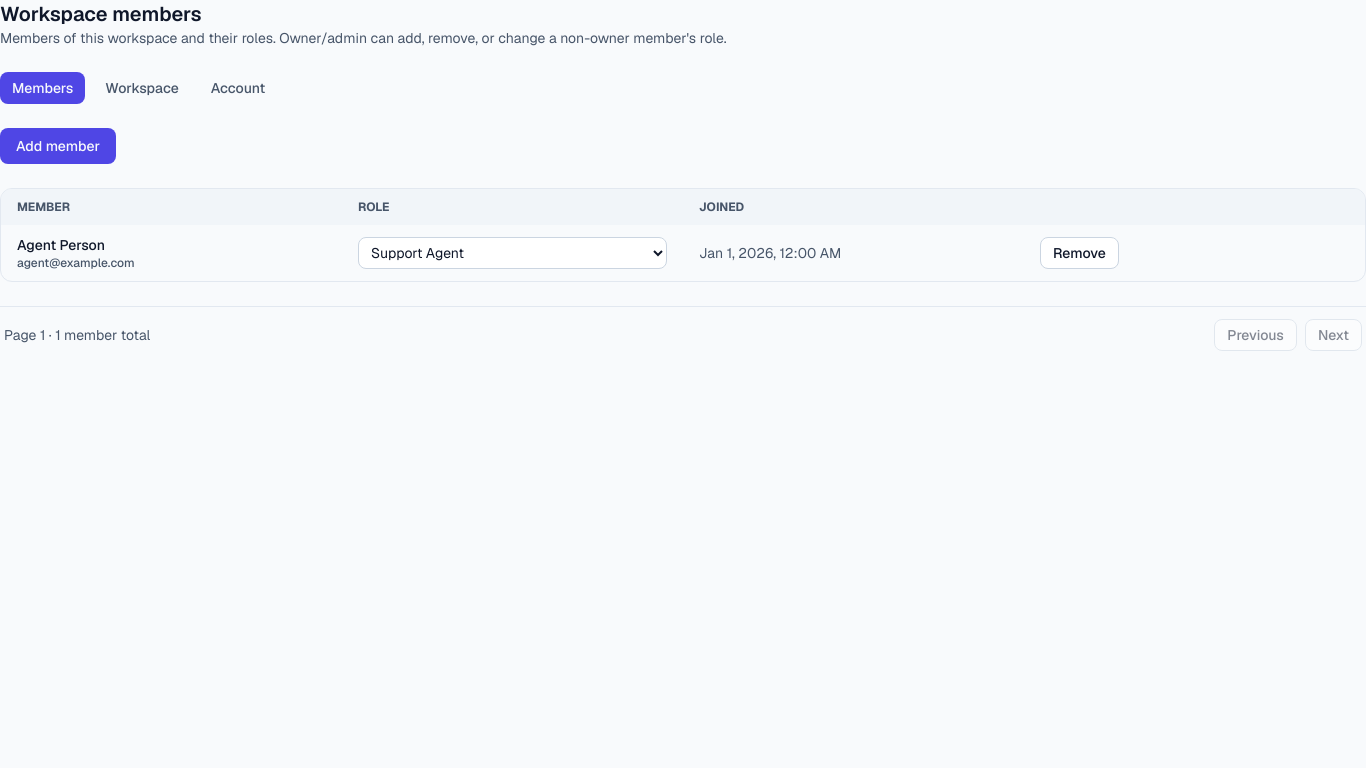
Test: MembersListPage › an admin removes a lower-role member with confirmation, and the server-authoritative removal is reflected (member disappears from the list)
Check: the text "Agent Person" is shown, box [17,236,105,254]
Step 1. Click the button with aria-label "remove agent person" → point(1079, 253), box [1040,237,1119,269]
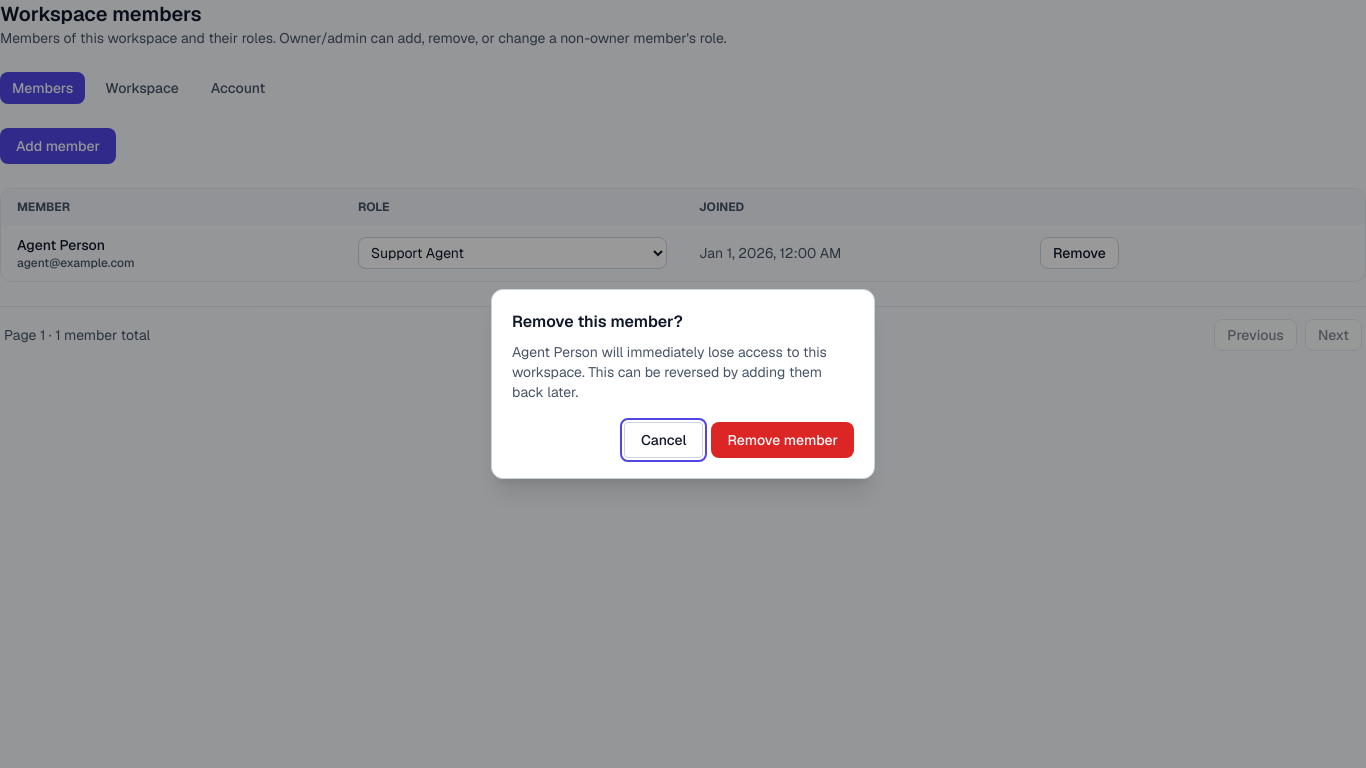
Check: the heading "Remove this member?" is shown, box [512,311,683,332]
Step 2. Click the button "Remove member" → point(783, 440), box [712,422,854,458]
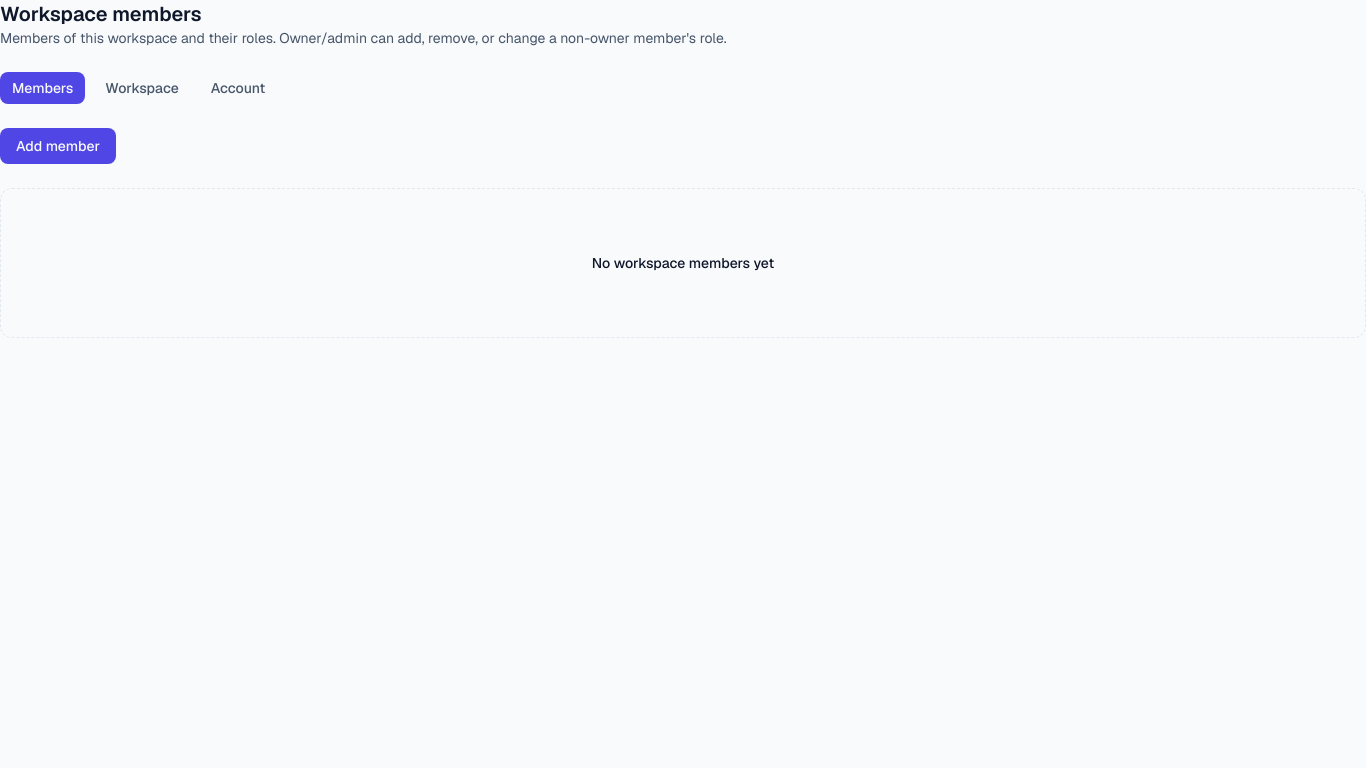
Check: the text "Agent Person" is gone
Check: the text "No workspace members yet" is shown, box [592,254,774,272]
